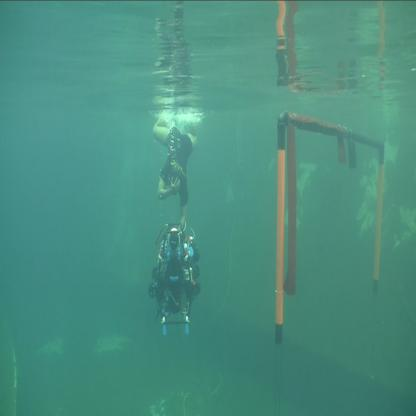gate: (270, 109, 391, 352)
